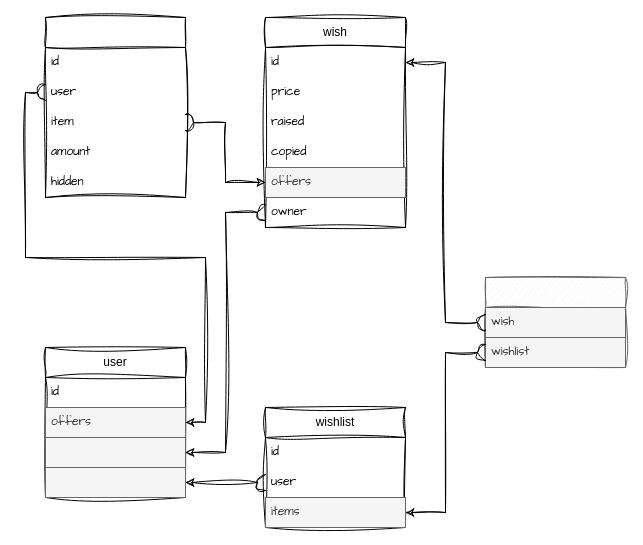
This 643x545 diagram has some shape labels left out. The box of each missing label's shape, as (x1, y1, x2, y2) in pixels:
offer: (44, 16, 186, 198)
wishes: (44, 436, 186, 468)
wishlist_items_wish: (484, 276, 626, 368)
wishlists: (44, 466, 186, 498)
